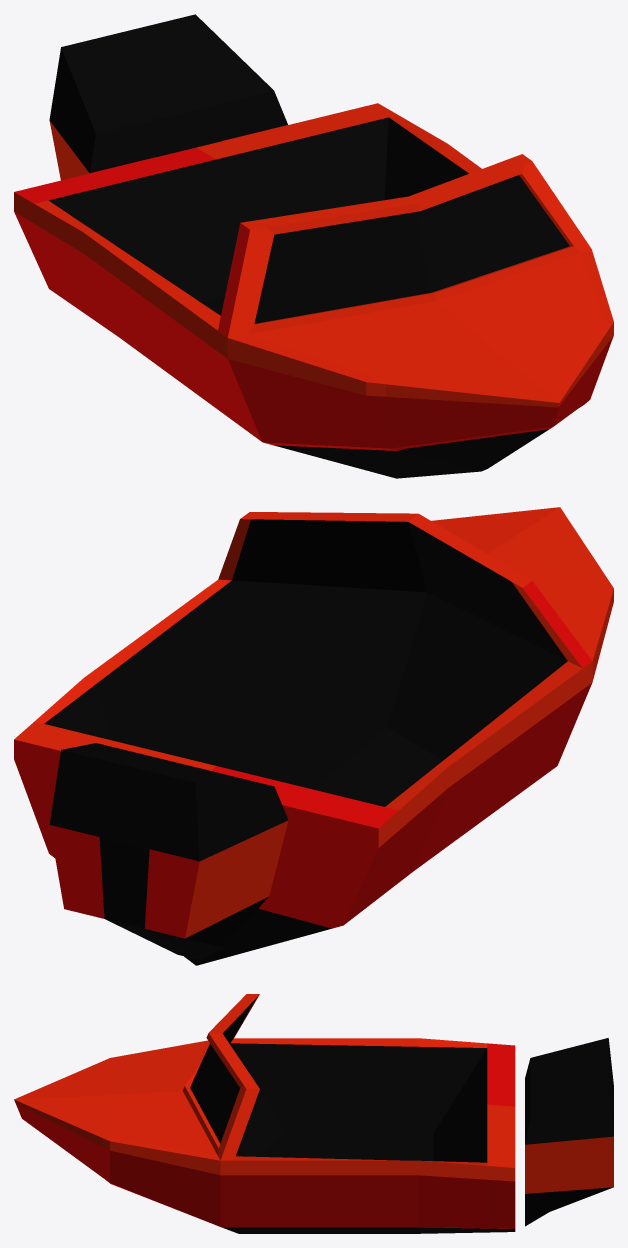
The model's file is boat.fbx.
3 renders of one model, top to bottom at view 1: azimuth 30°, elevation 25°; view 2: azimuth 150°, elevation 25°; view 3: azimuth 270°, elevation 25°, orthographic. The views are drawn at different scales.
Parts seen in each view (by area): view 1: Boat, Boat Motor; view 2: Boat, Boat Motor; view 3: Boat, Boat Motor.
Boxes of the visible parts, bbox=[...] form: Boat: bbox=[14, 103, 613, 478]; Boat Motor: bbox=[49, 14, 287, 180]; Boat: bbox=[14, 507, 613, 965]; Boat Motor: bbox=[49, 743, 288, 960]; Boat: bbox=[14, 994, 515, 1233]; Boat Motor: bbox=[525, 1038, 613, 1226].
Size of the model in its own units: 391 by 299 by 809.
